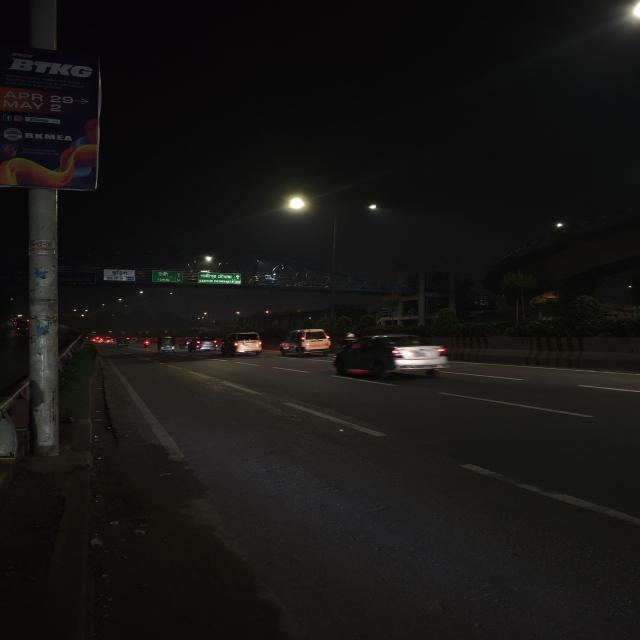car: (330, 336, 451, 382), (279, 328, 330, 359), (220, 332, 266, 356), (186, 334, 221, 354)
cng: (152, 335, 178, 357), (114, 336, 131, 348)
motorcycle: (139, 337, 150, 349)
